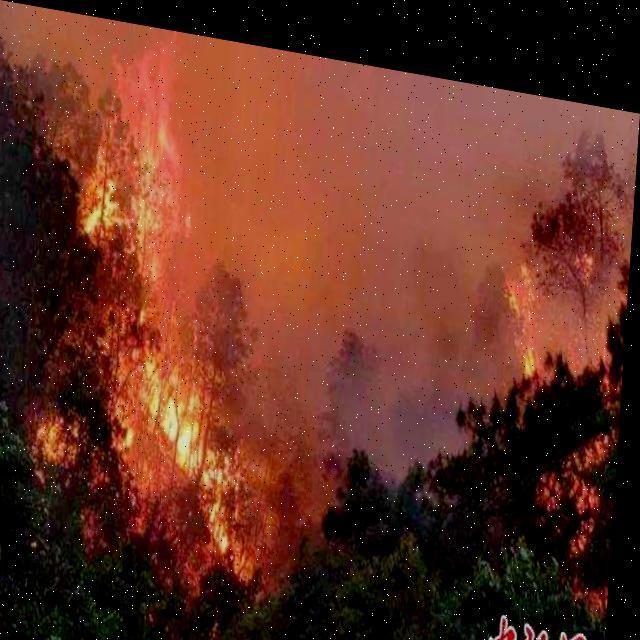Fire: (32, 115, 275, 552), (494, 228, 630, 562)
